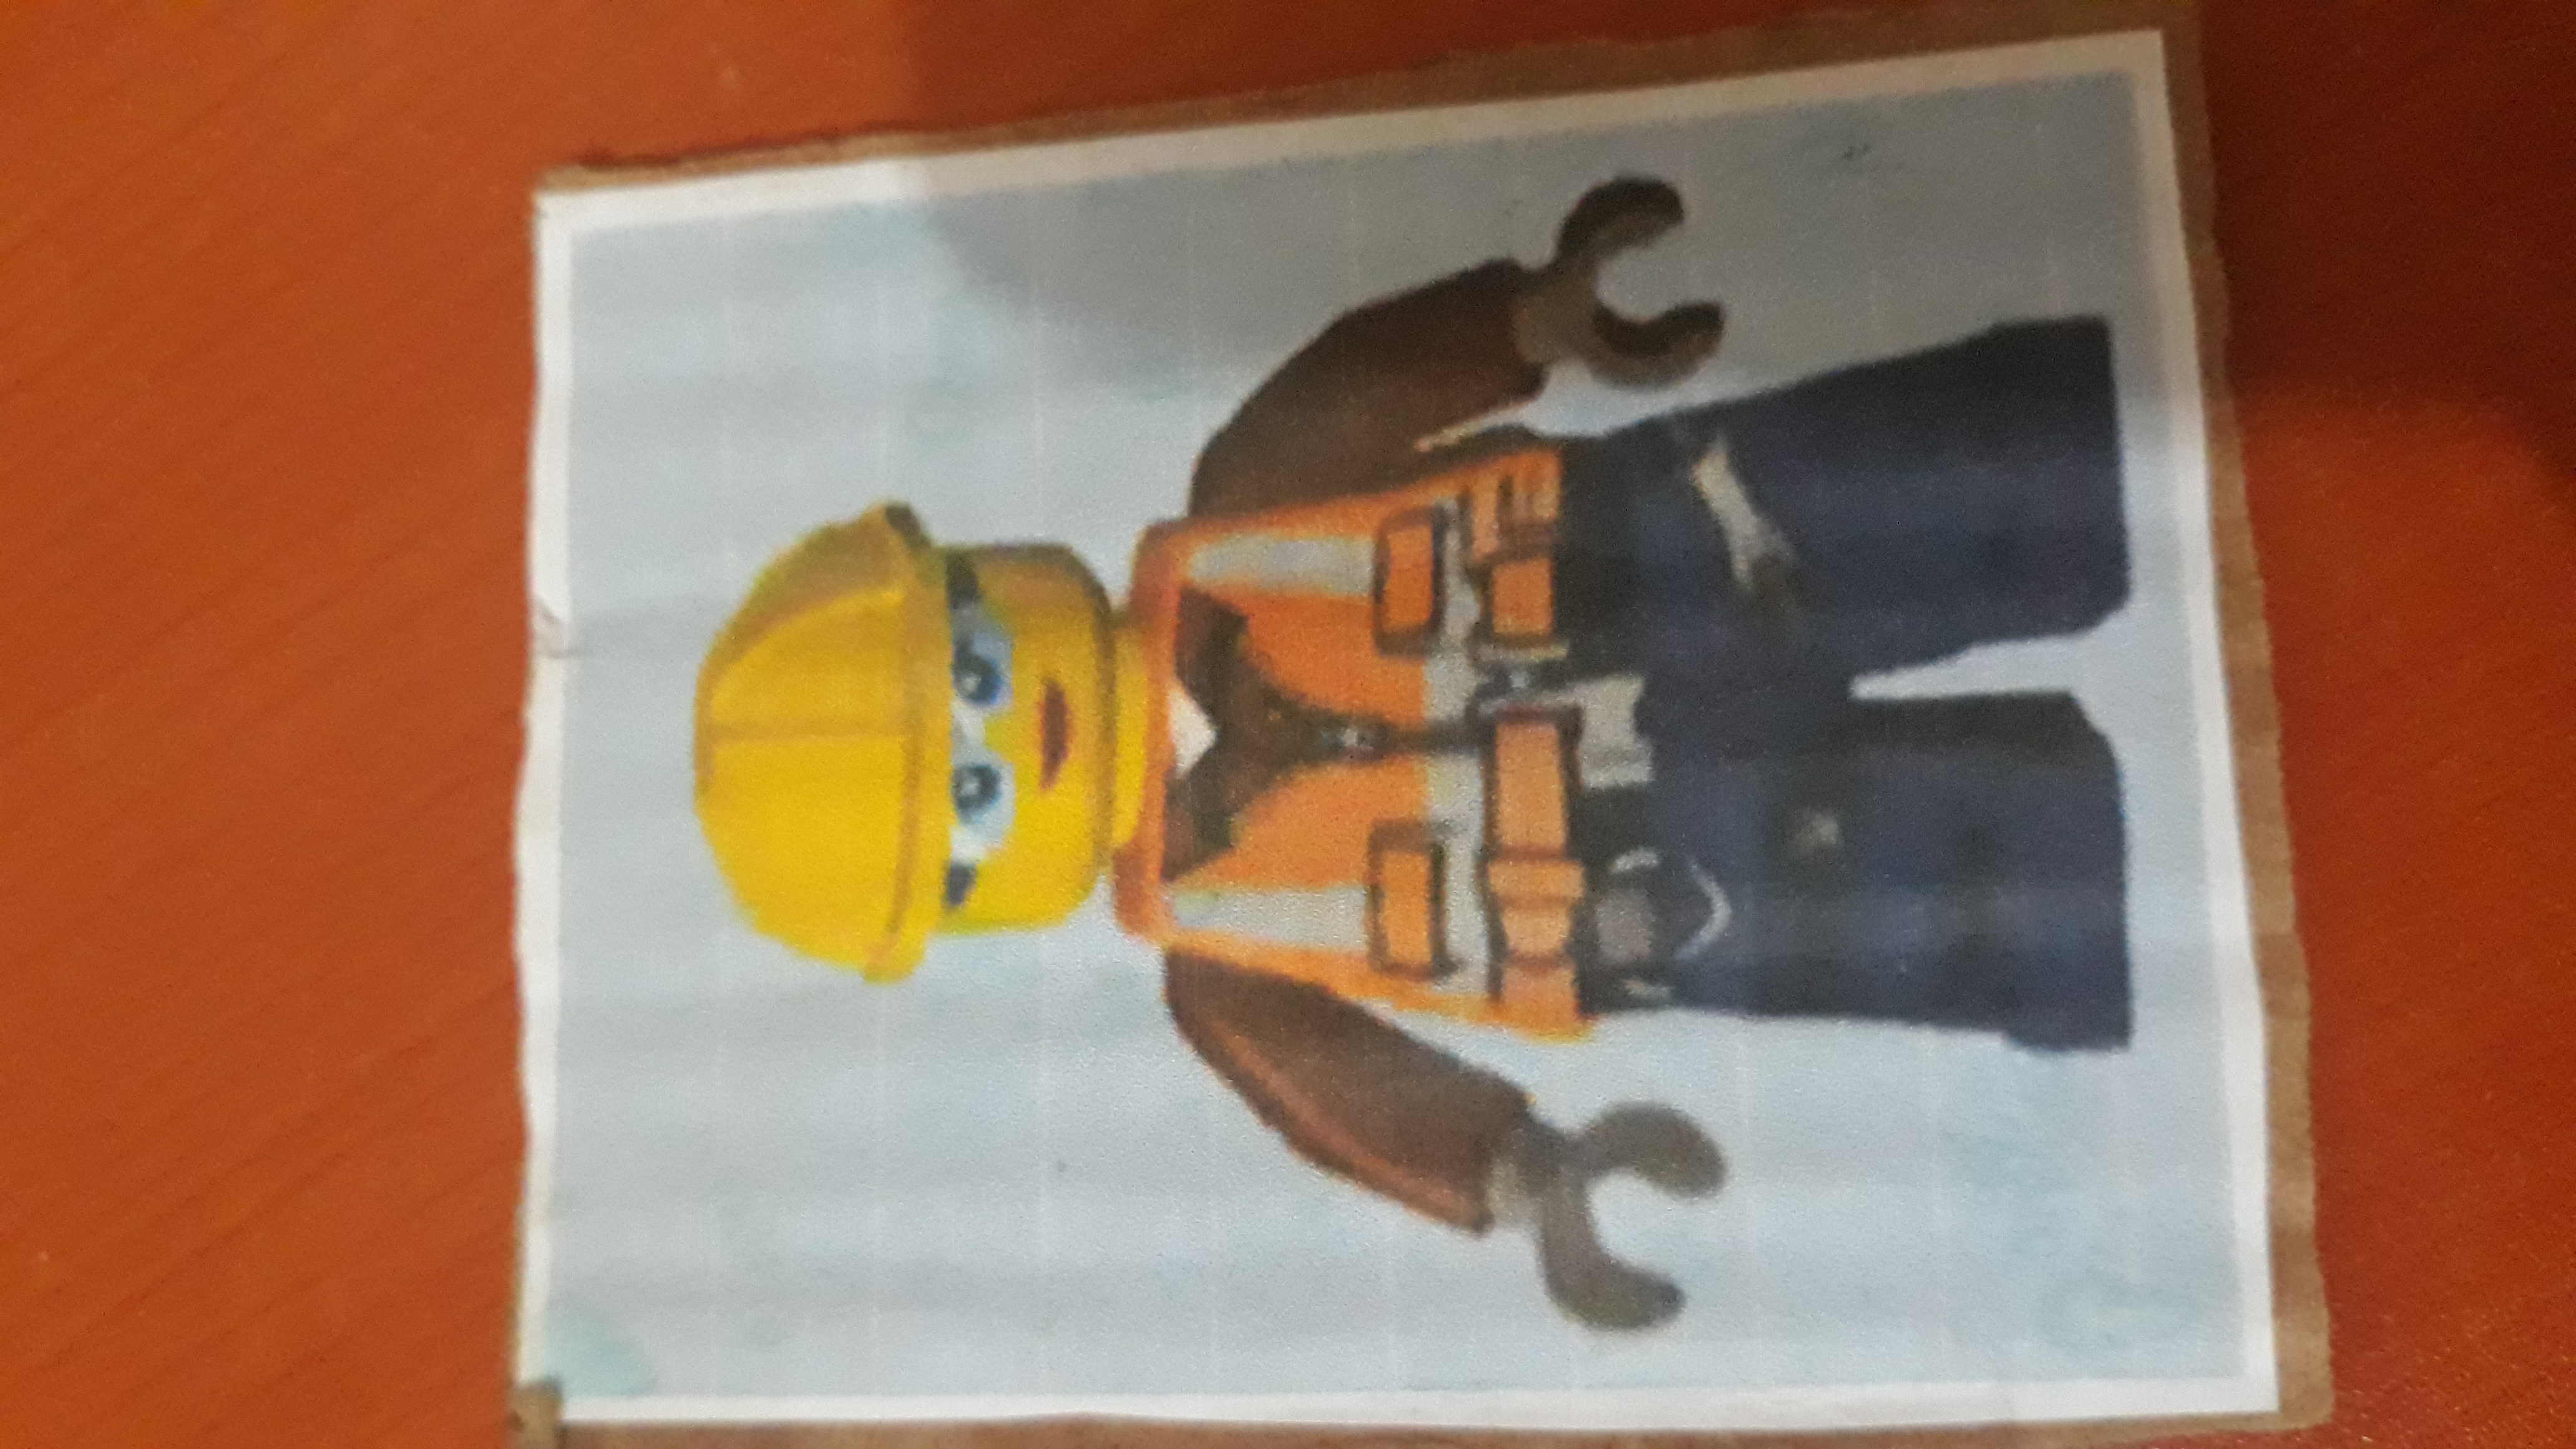pedestrian: (686, 160, 2178, 1354)
